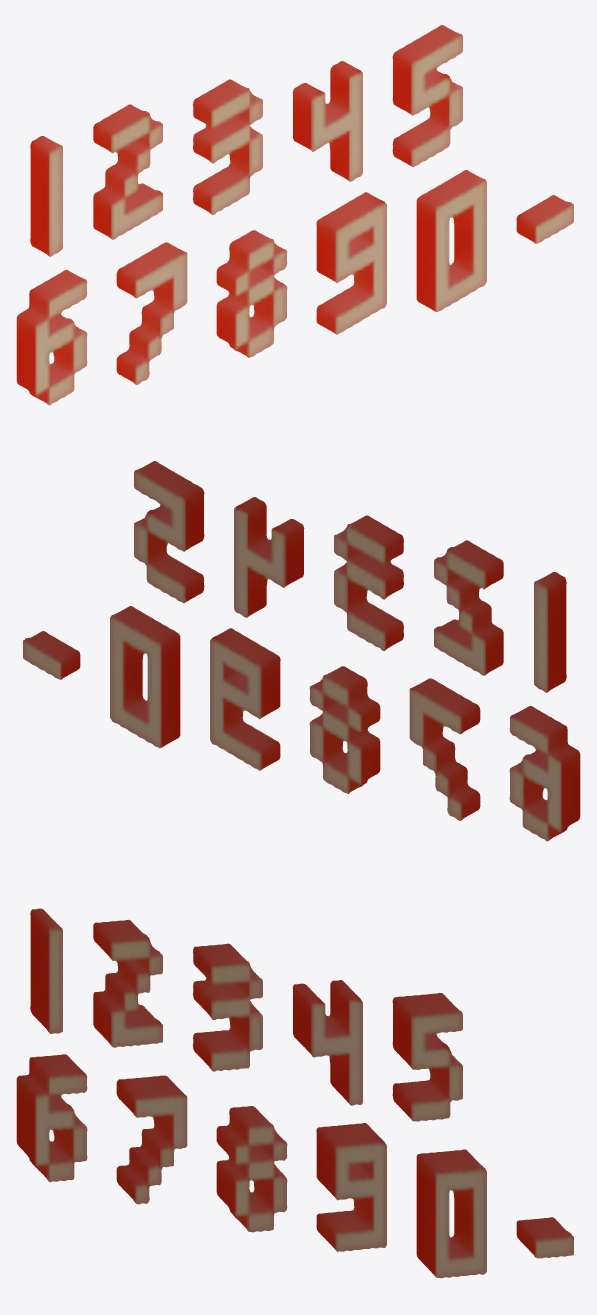
File: Font Isometric Numbers L.FBX
3 views of the same model, one above another, from view 1: azimuth 30°, elevation 25°; view 2: azimuth 150°, elevation 25°; view 3: azimuth 330°, elevation 25° (orthographic).
Visible parts, largest first — view 1: 0, 9, 6, 5, 8, 3, 2, 7, 4, 1, -; view 2: 0, 9, 6, 5, 8, 3, 2, 7, 4, 1, -; view 3: 0, 9, 6, 5, 8, 3, 2, 7, 4, 1, -.
Part boxes in pixels (left/top/right/bottom): 0: left=416, top=170, right=486, bottom=312; 9: left=316, top=192, right=386, bottom=334; 6: left=16, top=269, right=87, bottom=405; 5: left=392, top=25, right=462, bottom=167; 8: left=216, top=230, right=287, bottom=357; 3: left=193, top=79, right=262, bottom=214; 2: left=93, top=104, right=162, bottom=239; 7: left=116, top=242, right=187, bottom=384; 4: left=292, top=61, right=362, bottom=181; 1: left=30, top=136, right=62, bottom=256; -: left=516, top=195, right=573, bottom=243; 0: left=110, top=606, right=180, bottom=748; 9: left=210, top=628, right=280, bottom=770; 6: left=509, top=705, right=580, bottom=841; 5: left=134, top=461, right=204, bottom=603; 8: left=309, top=666, right=380, bottom=793; 3: left=334, top=515, right=403, bottom=650; 2: left=434, top=540, right=503, bottom=675; 7: left=409, top=678, right=480, bottom=820; 4: left=234, top=497, right=304, bottom=617; 1: left=534, top=572, right=566, bottom=692; -: left=23, top=631, right=80, bottom=679; 0: left=416, top=1149, right=486, bottom=1278; 9: left=316, top=1123, right=386, bottom=1251; 6: left=16, top=1054, right=87, bottom=1182; 5: left=392, top=993, right=462, bottom=1121; 8: left=216, top=1106, right=287, bottom=1232; 3: left=193, top=943, right=262, bottom=1071; 2: left=93, top=919, right=162, bottom=1047; 7: left=116, top=1075, right=187, bottom=1204; 4: left=292, top=980, right=362, bottom=1105; 1: left=30, top=908, right=62, bottom=1033; -: left=516, top=1217, right=573, bottom=1258.
Size of the model in its own units: 200 by 1.61e-05 by 98.83.
